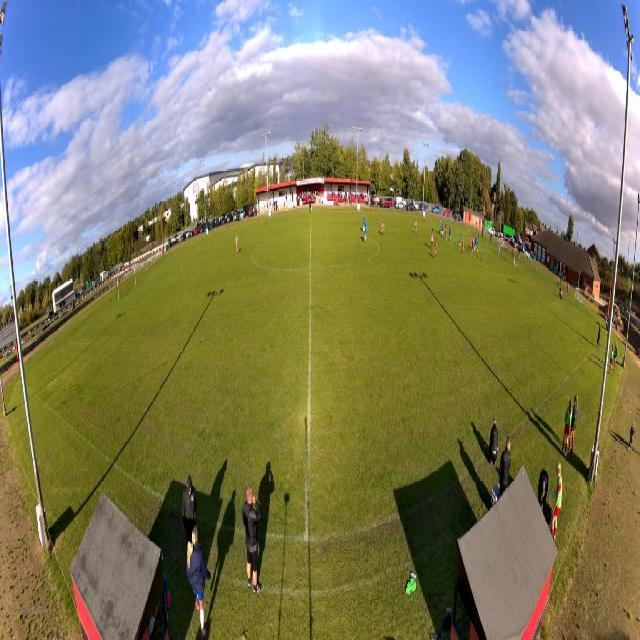ball: (446, 236, 447, 240)
player: (364, 220, 368, 244), (381, 216, 385, 237), (235, 233, 239, 254), (414, 217, 418, 236), (458, 230, 462, 249), (435, 237, 438, 261), (431, 228, 434, 250), (363, 214, 366, 234), (482, 242, 485, 262), (462, 236, 465, 255), (470, 234, 473, 253), (471, 239, 474, 258), (476, 235, 479, 253), (498, 240, 501, 257), (441, 221, 444, 237), (439, 220, 442, 236), (475, 233, 478, 249), (444, 224, 447, 239), (473, 234, 475, 251), (474, 234, 476, 251), (450, 225, 452, 240), (450, 225, 451, 241), (446, 223, 448, 230)
